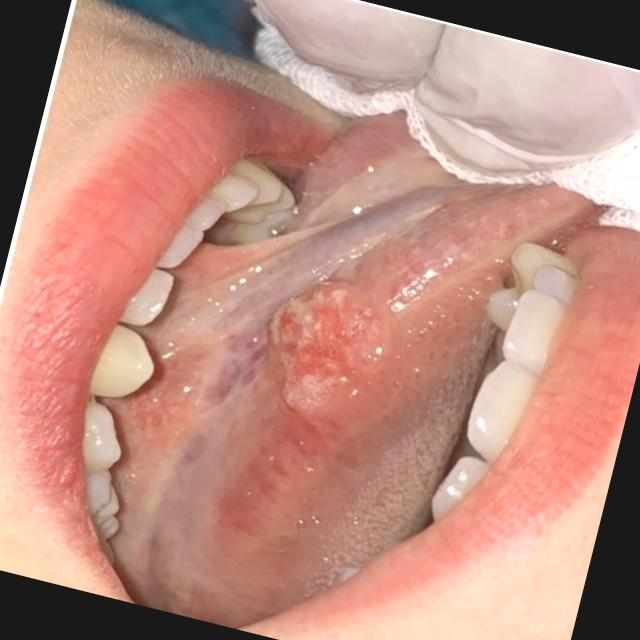Cancer: (95, 164, 414, 622)
